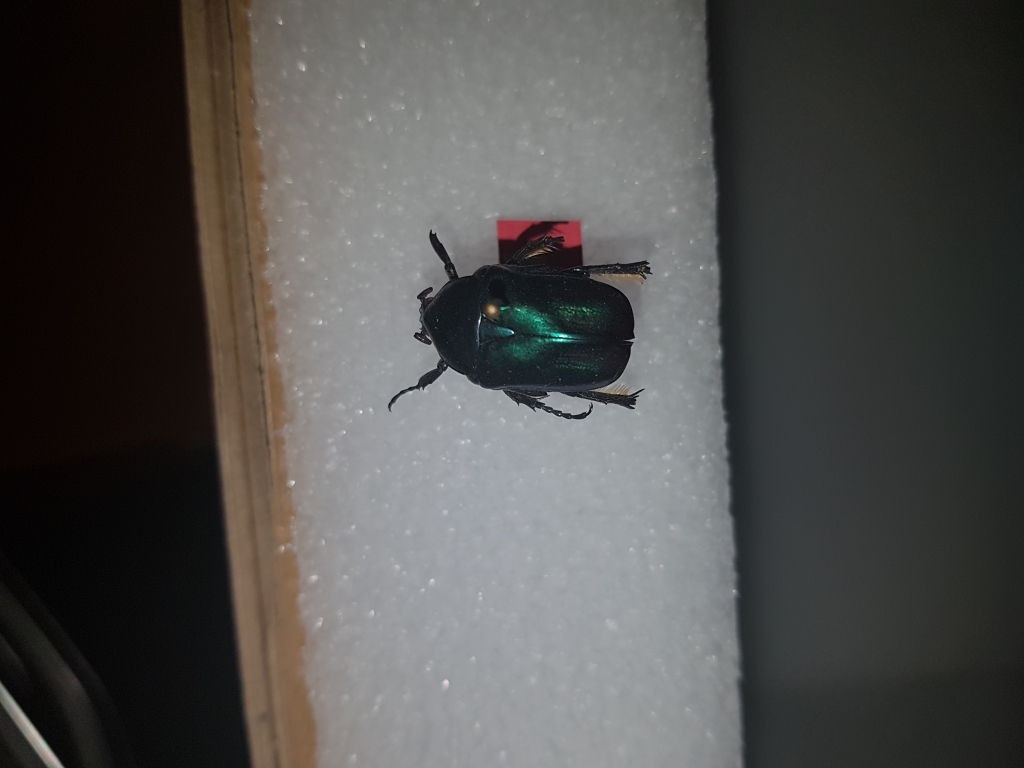Protaetia_besucheti: (383, 225, 656, 440)
